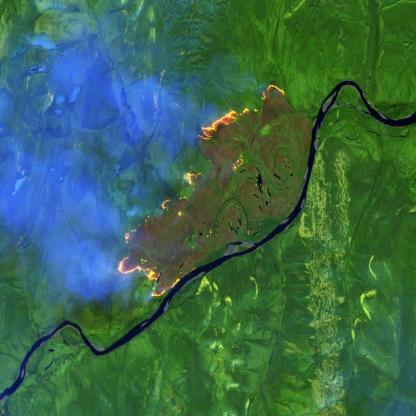fire: (185, 74, 281, 193), (115, 186, 184, 303)
